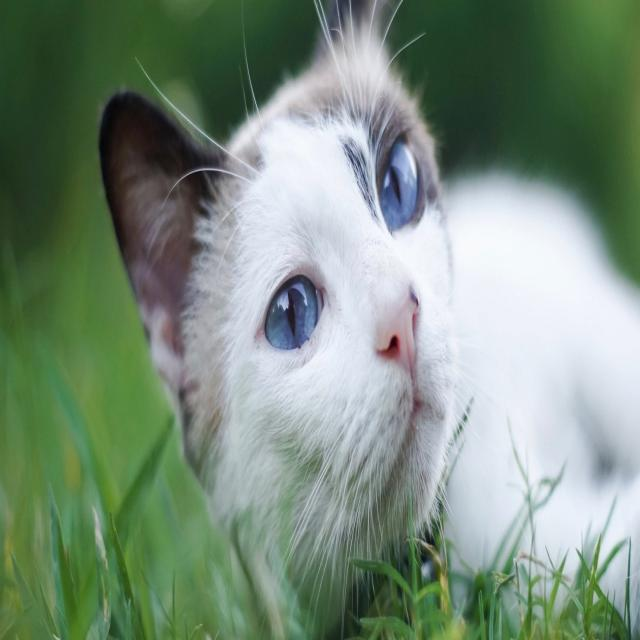cat: (170, 105, 450, 527)
